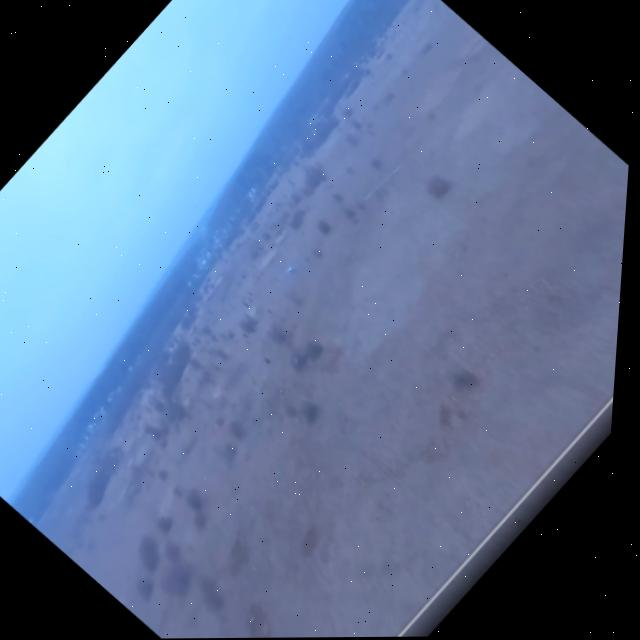planedrone: (270, 249, 307, 284)
